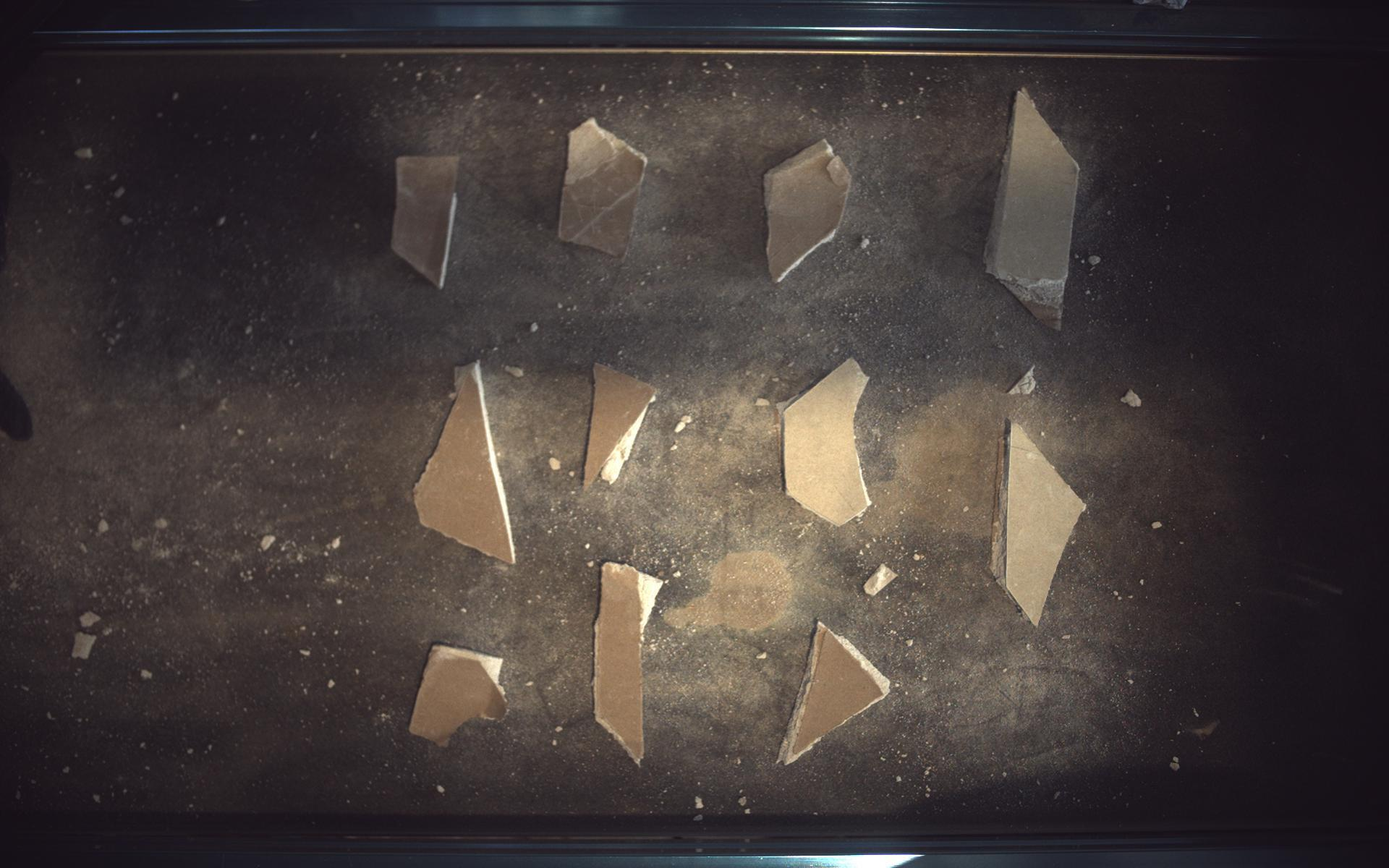gypsum_board: (987, 88, 1082, 329), (414, 362, 516, 564), (993, 419, 1089, 626), (779, 623, 892, 765), (784, 358, 873, 526), (595, 563, 665, 766), (558, 117, 648, 258), (765, 138, 853, 282), (409, 645, 507, 748), (391, 156, 459, 288), (585, 364, 656, 488)
